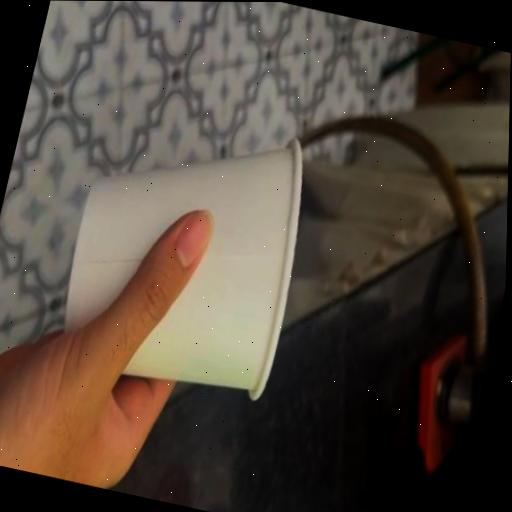ly_giay: (64, 140, 300, 400)
